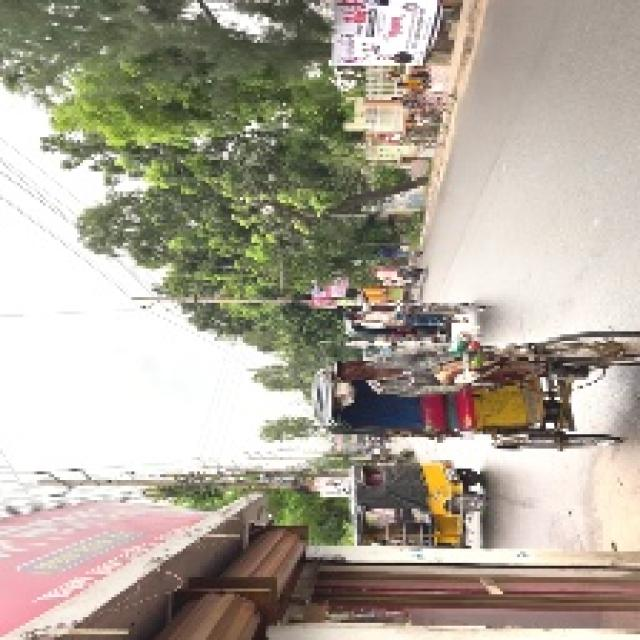rickshaw: (312, 323, 629, 437), (326, 457, 484, 549), (329, 296, 481, 341)
